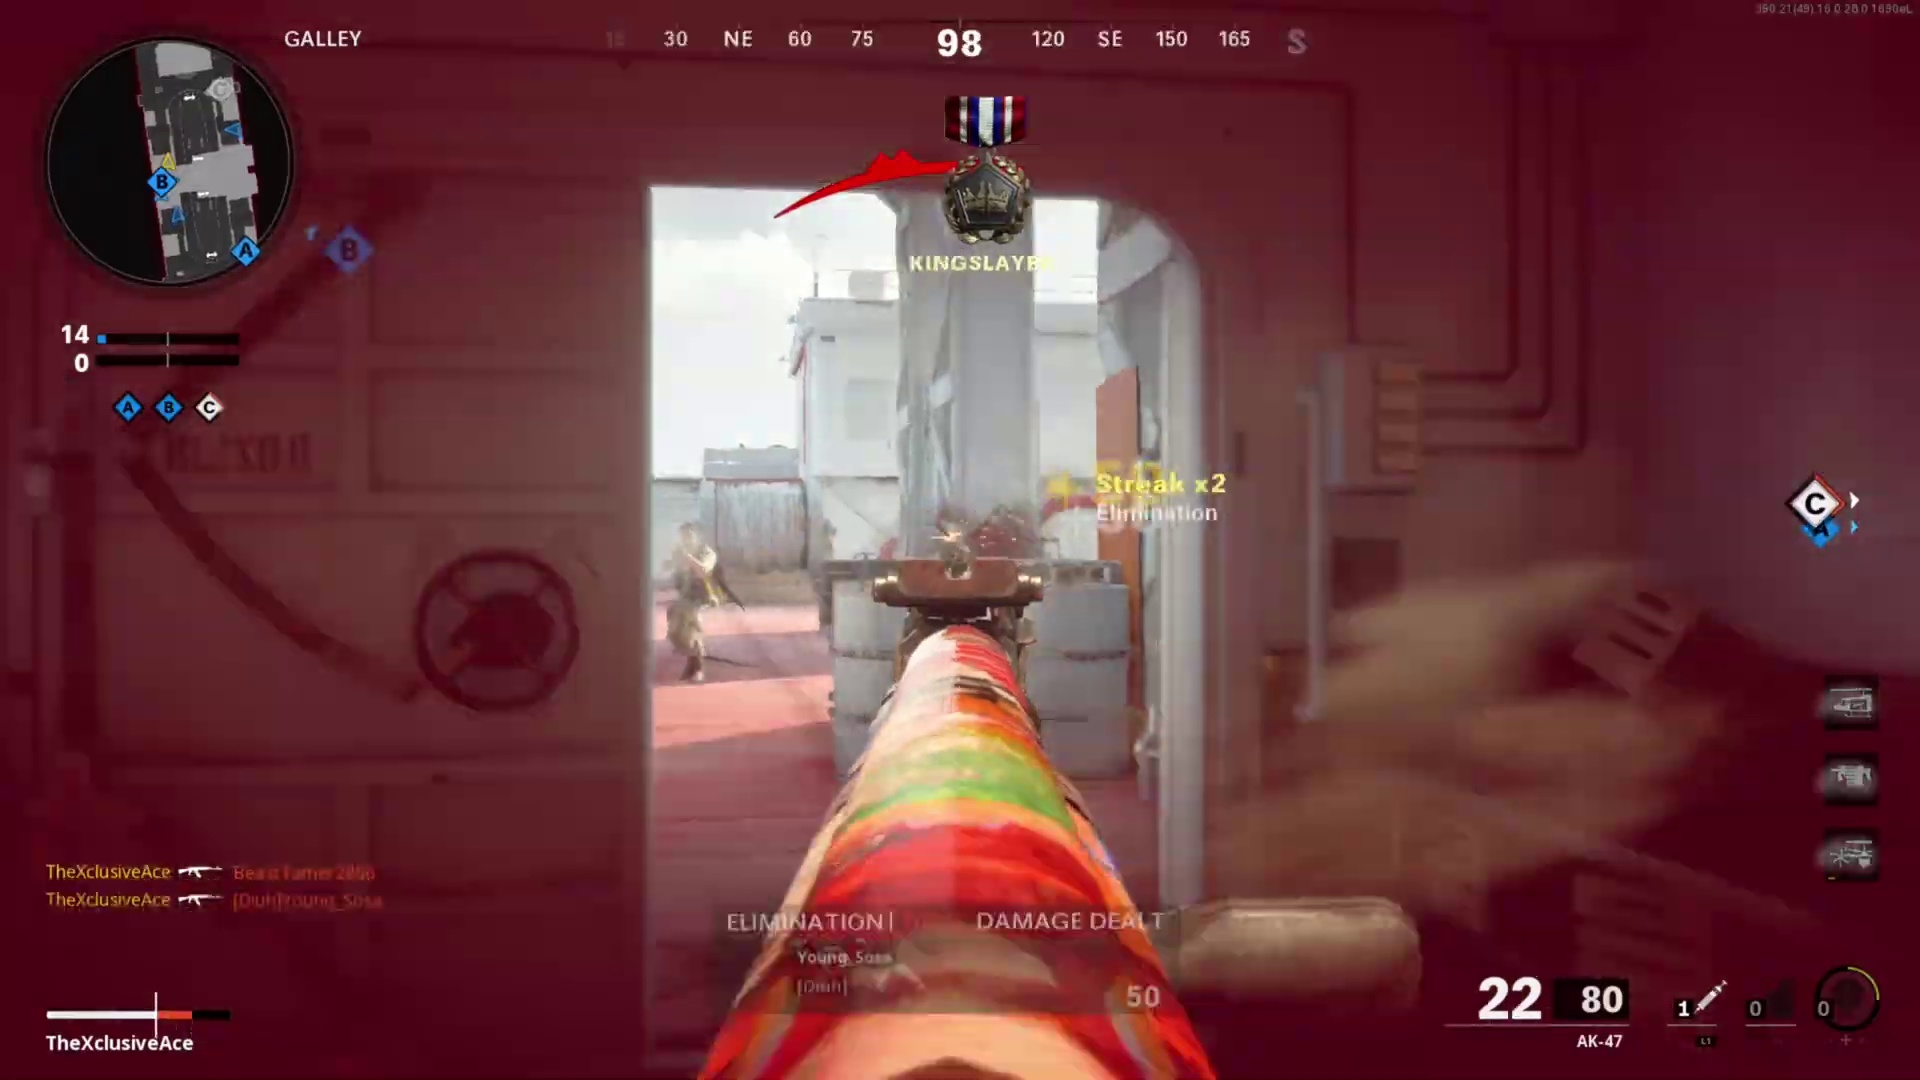head: (673, 520, 704, 557)
person: (663, 525, 732, 683)
